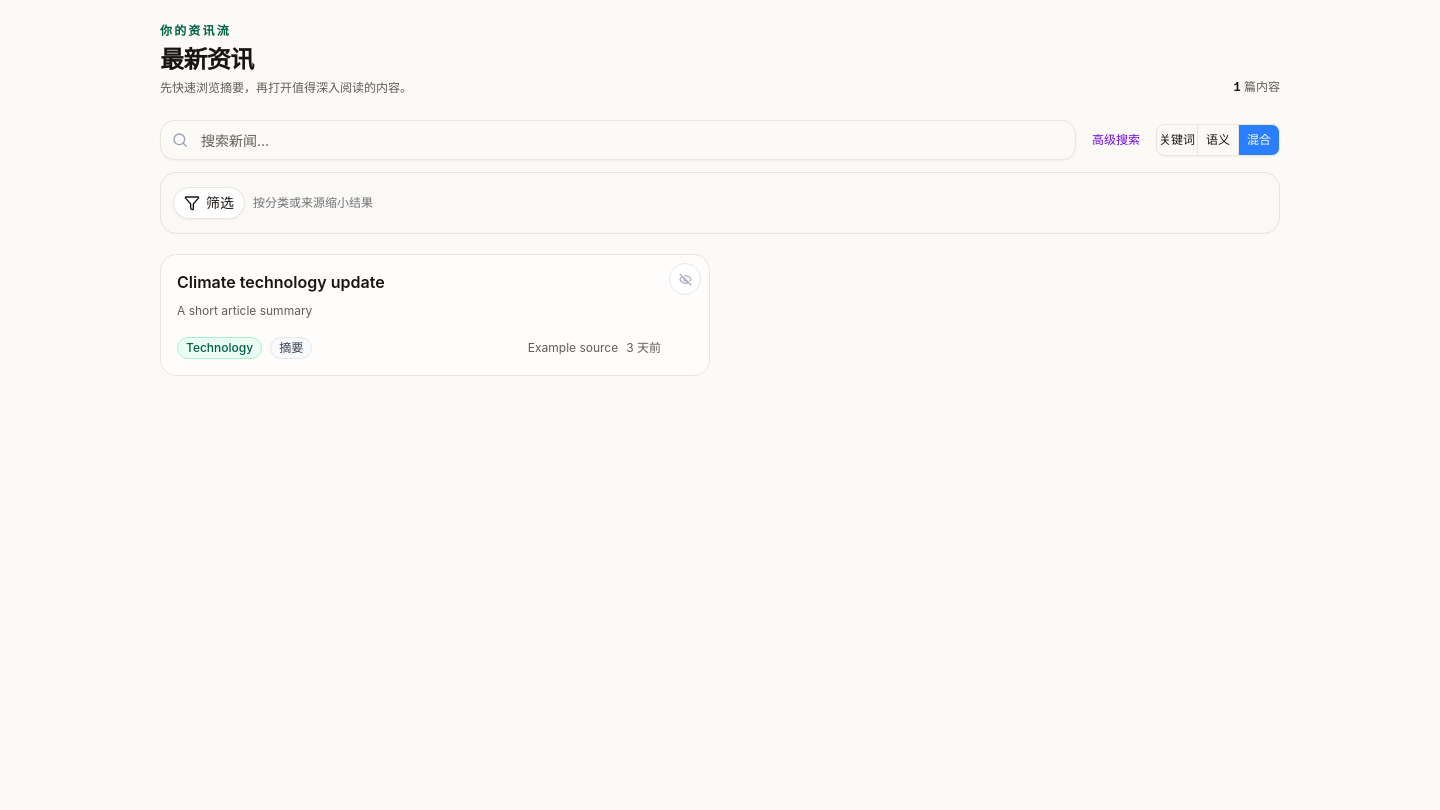
Test case: NewsList URL and server state › removes a blocked story immediately and lets the reader undo it
This screenshot has width=1440, height=810.
Expected: the heading "Climate technology update" is shown, left=177, top=272, right=385, bottom=292
Click the button named "屏蔽此新闻": (685, 279) left=669, top=263, right=701, bottom=295
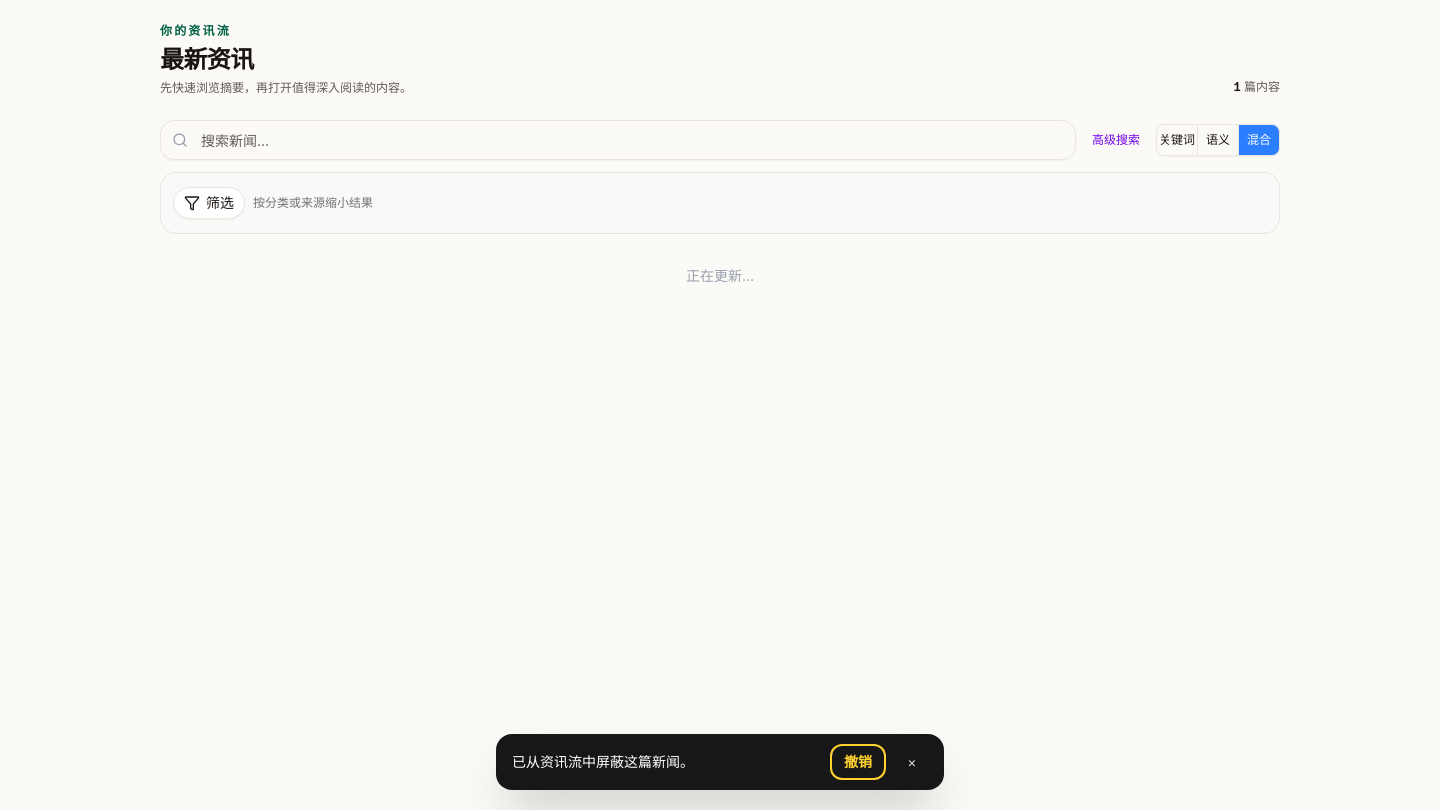
Expected: the link "Climate technology update" is gone
Expected: the text "已从资讯流中屏蔽这篇新闻。" is shown, left=512, top=753, right=694, bottom=770
Click the button "撤销": (858, 762) left=832, top=746, right=884, bottom=778
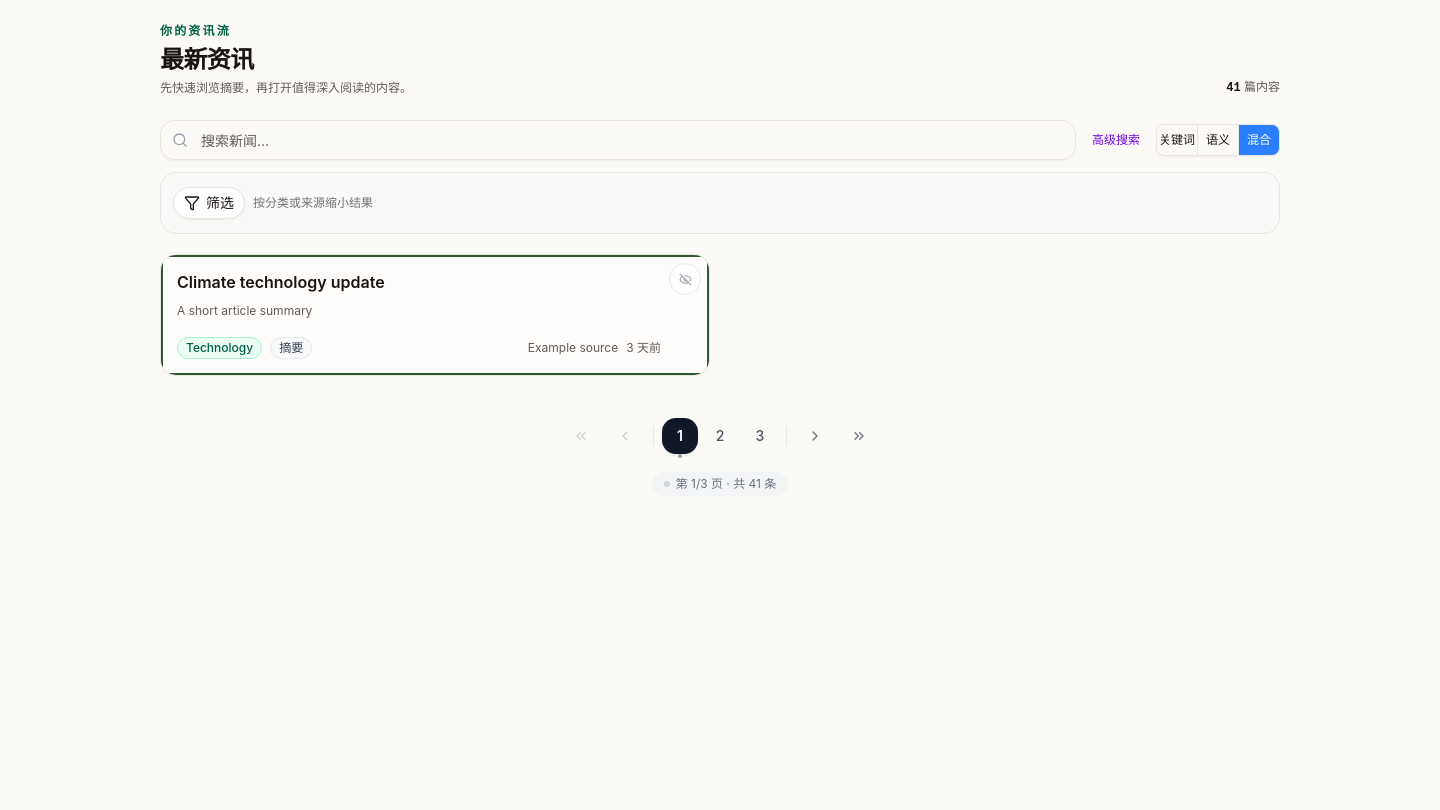
Expected: the heading "Climate technology update" is shown, left=177, top=272, right=385, bottom=292
